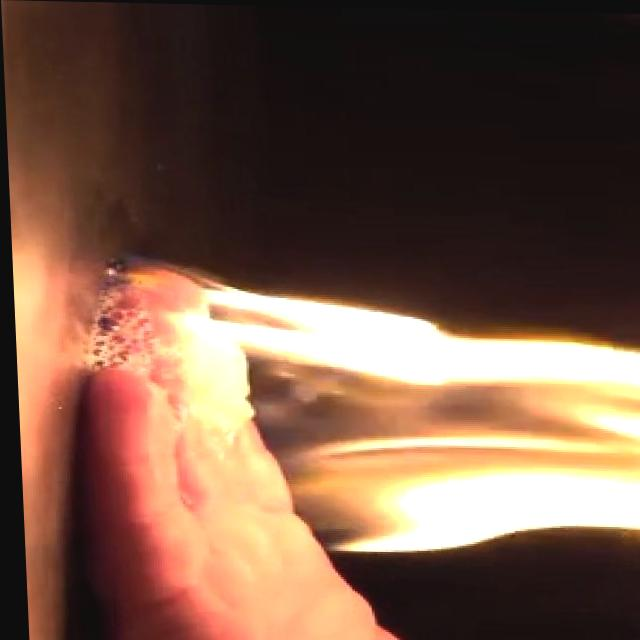Fire: (154, 275, 640, 583)
